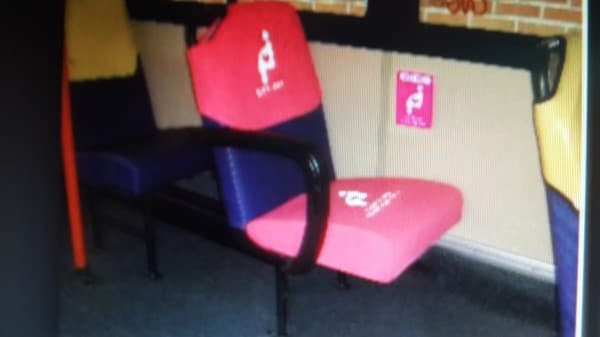seat: (190, 5, 464, 279)
